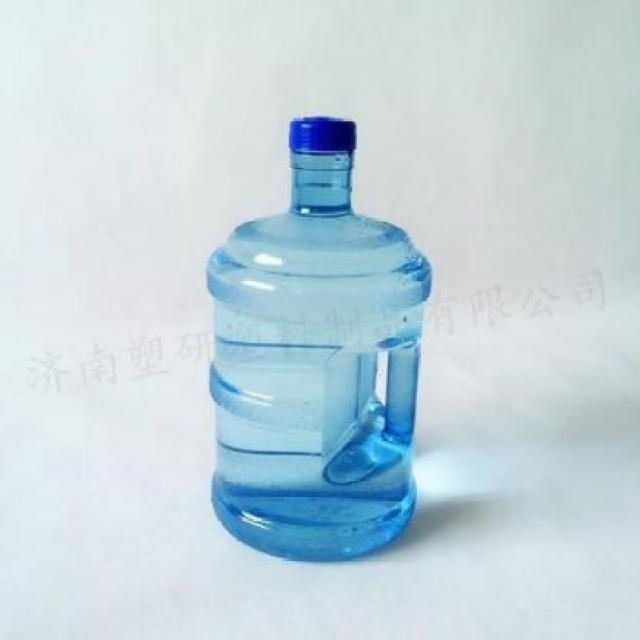coolerbottle: (202, 109, 438, 572)
